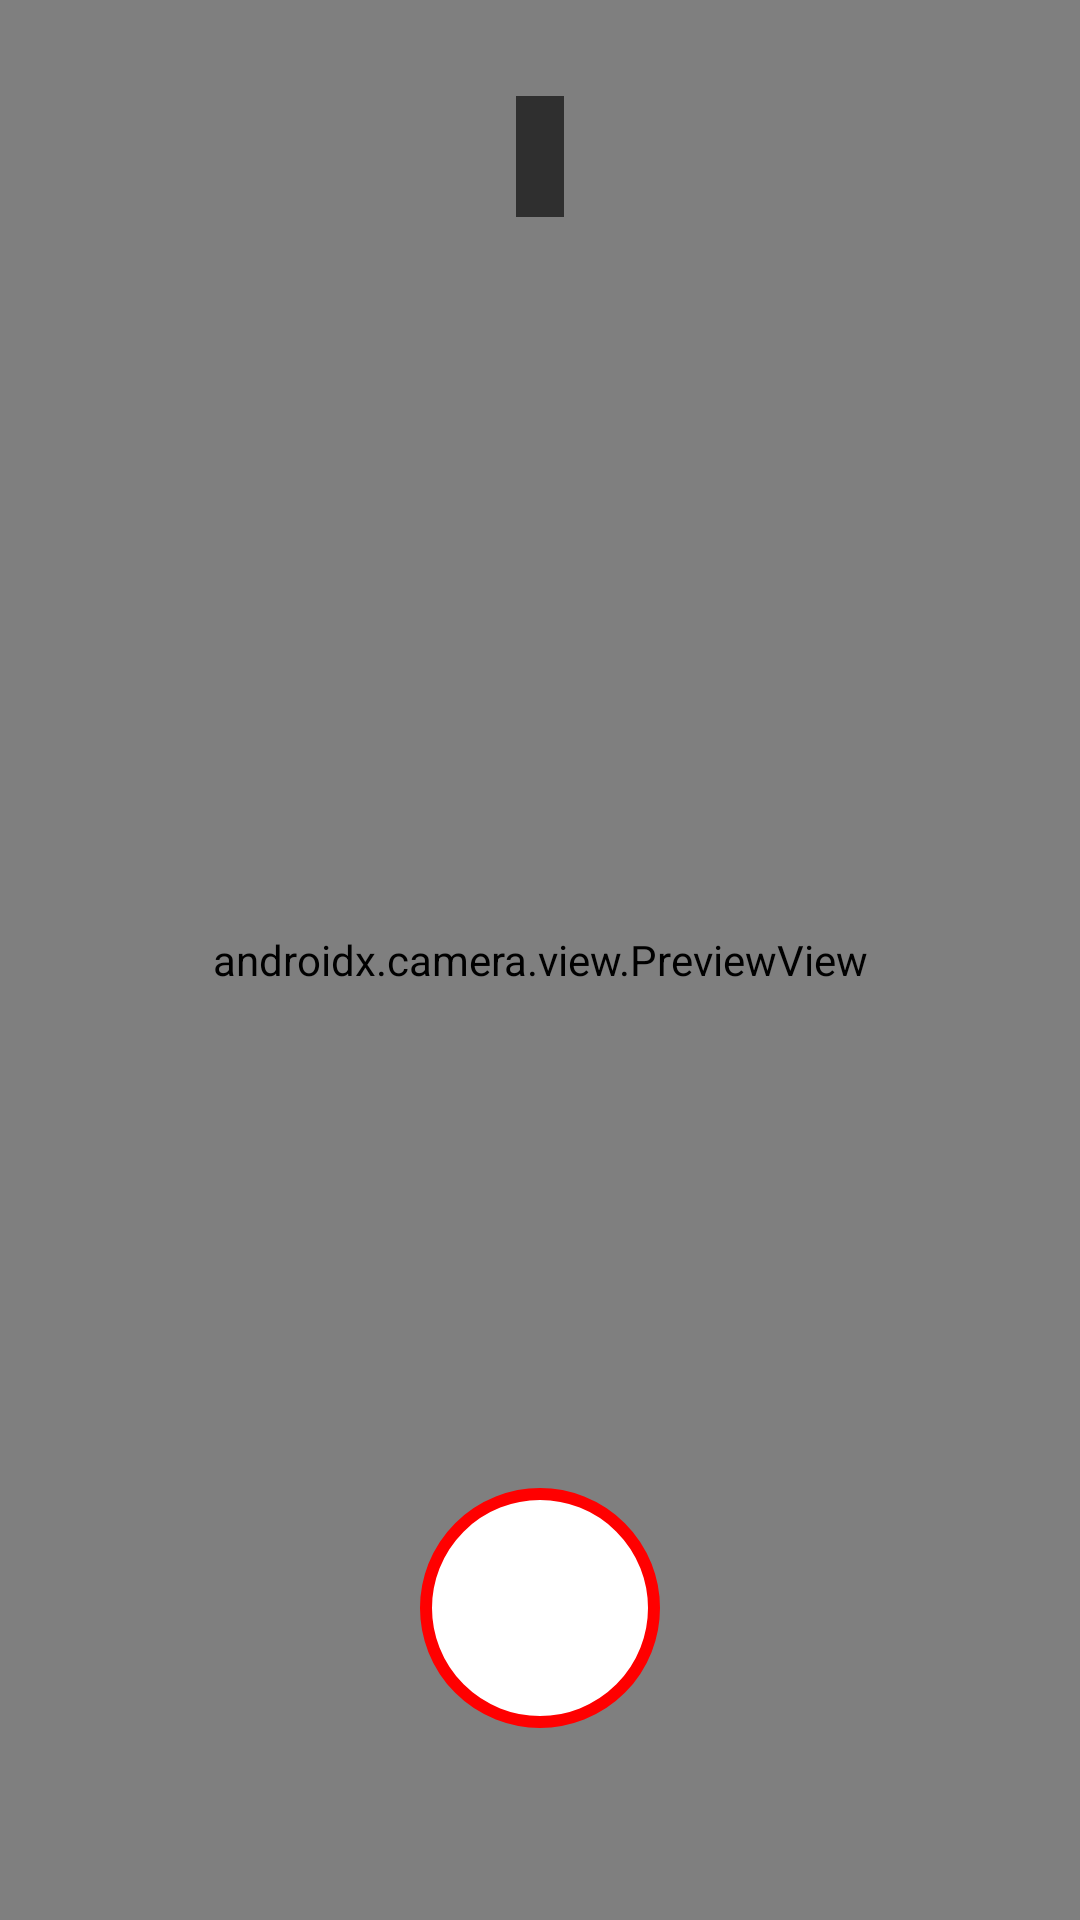

Named icons in this screenshot (1080 × 1920) and their centers, point (x, y):
Capture Photo: point (540, 1608)
